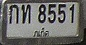txt01: (8, 4, 19, 24)
txt18: (20, 3, 31, 25)
